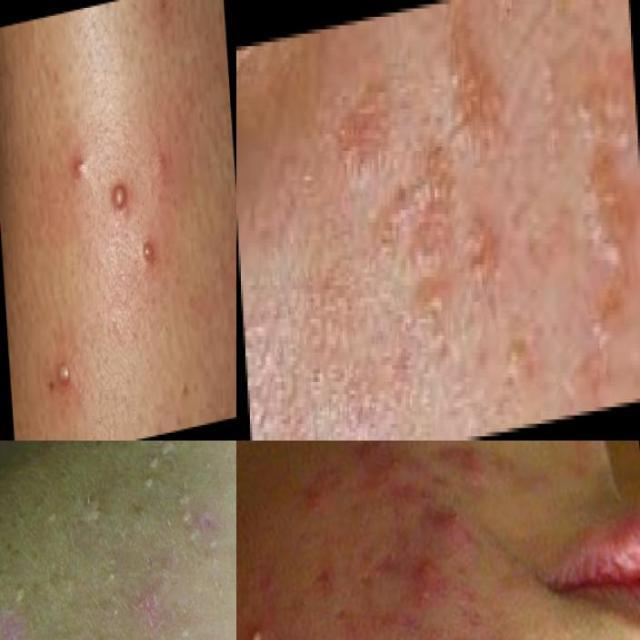Pimples: (400, 546, 458, 608), (436, 440, 506, 490), (421, 502, 479, 554), (140, 578, 183, 640), (192, 492, 236, 546), (236, 604, 286, 640), (0, 597, 41, 640), (49, 344, 78, 399), (105, 168, 133, 222), (64, 140, 91, 190), (134, 228, 160, 268)
